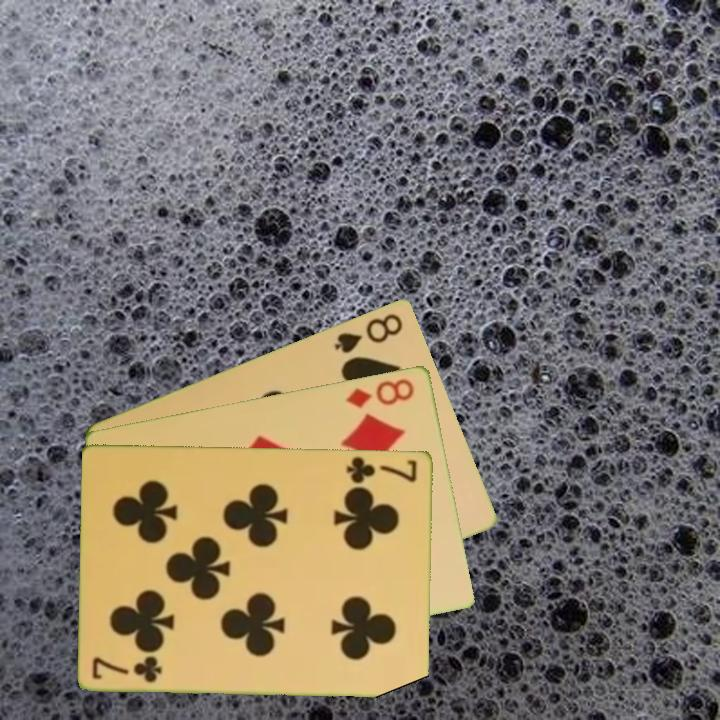7c: (343, 453, 420, 486), (90, 652, 165, 685)
8d: (343, 374, 418, 411)
8s: (331, 309, 406, 356)
